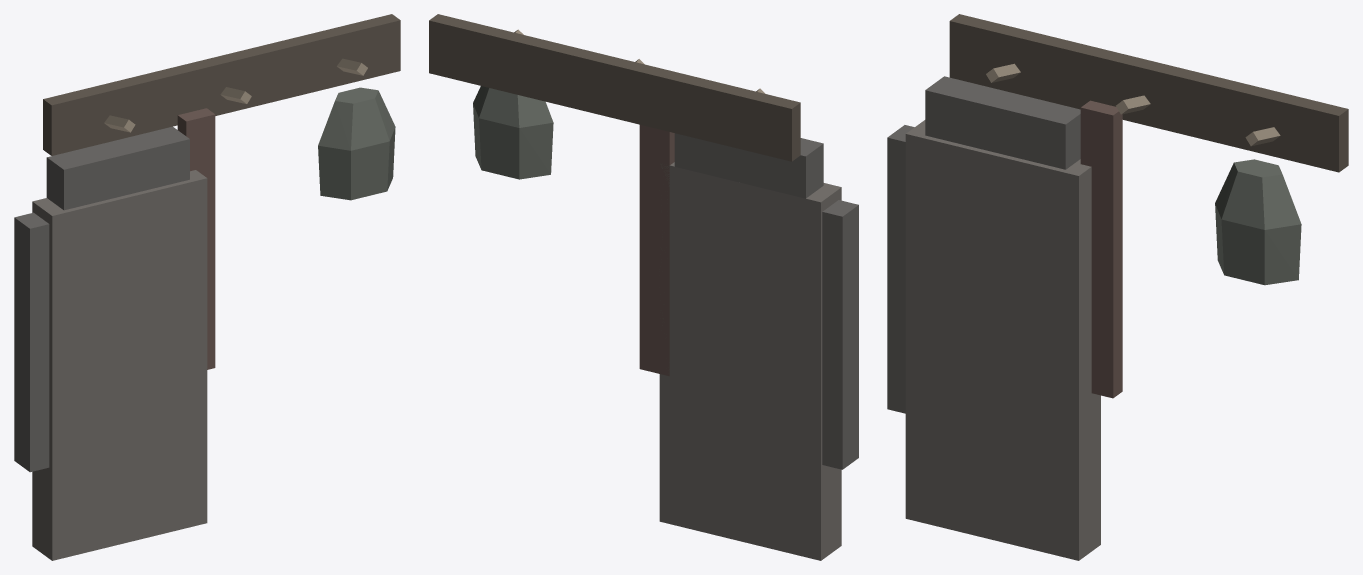
The model's file is coat_hook.glb.
The picture shows the model from 3 angles, left to right: view 1: azimuth 30°, elevation 25°; view 2: azimuth 150°, elevation 25°; view 3: azimuth 330°, elevation 25°; orthographic projection. The views are drawn at different scales.
Visible parts, largest first — view 1: coat_hook; view 2: coat_hook; view 3: coat_hook.
Part boxes in pixels (bbox=[...]): coat_hook: bbox=[14, 14, 400, 560]; coat_hook: bbox=[429, 14, 858, 560]; coat_hook: bbox=[887, 14, 1348, 560].
Bounding box in the file's own units: 0.8 × 0.86 × 0.13.
